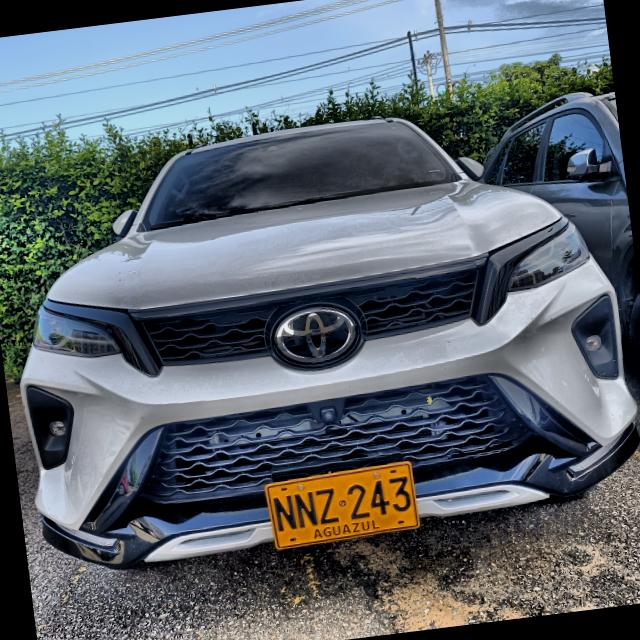plate: (266, 462, 418, 548)
